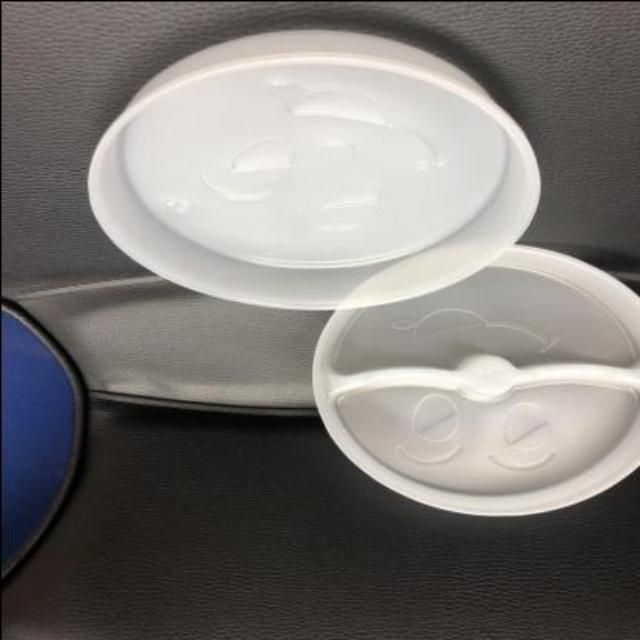plastic_box: (89, 28, 542, 308)
